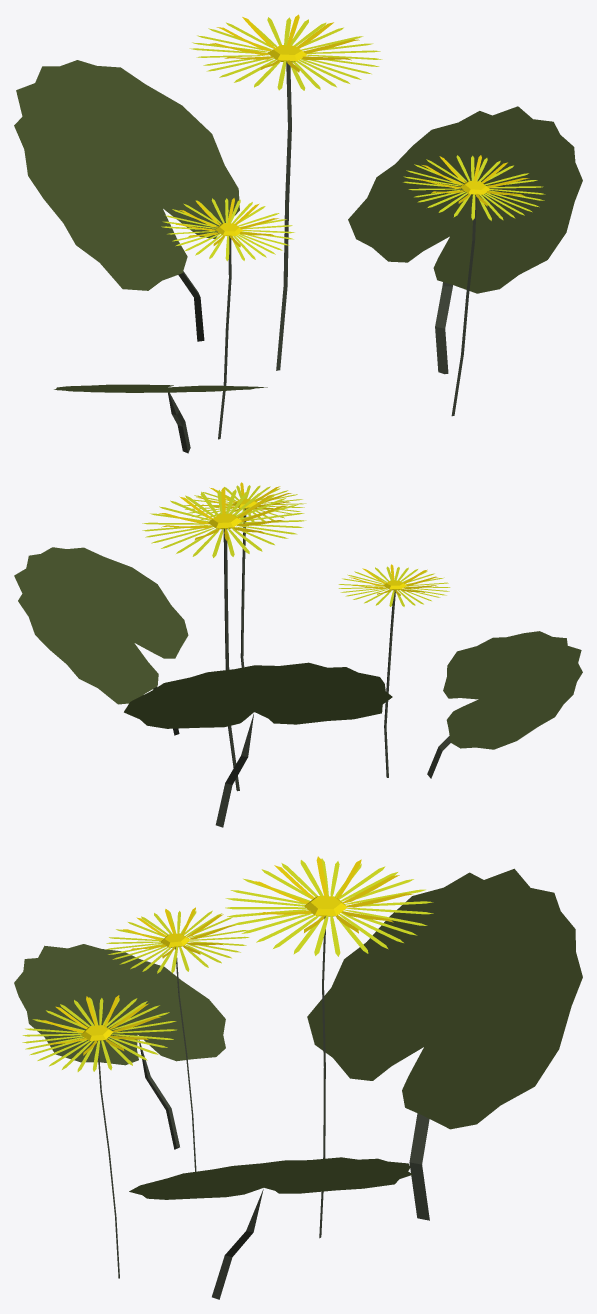
The model's file is macheha.fbx.
3 renders of one model, top to bottom at view 1: azimuth 30°, elevation 25°; view 2: azimuth 150°, elevation 25°; view 3: azimuth 270°, elevation 25°, orthographic. The views are drawn at different scales.
Parts seen in each view (by area): view 1: Circle.001; view 2: Circle.001; view 3: Circle.001.
Boxes of the visible parts, <box> form: Circle.001: <box>14,14,582,453</box>; Circle.001: <box>14,482,582,827</box>; Circle.001: <box>14,856,582,1299</box>.
Size of the model in its own units: 56.28 by 31.38 by 45.9.
